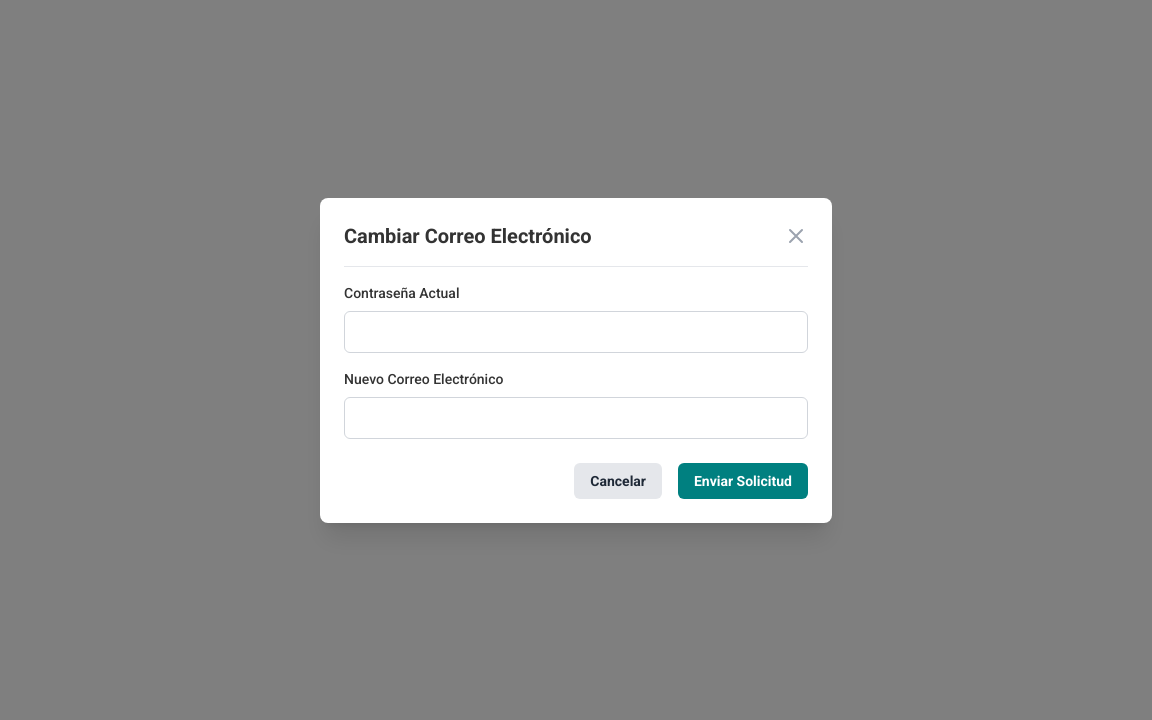
it: ChangeEmailModal › debería mostrar un mensaje de error si la API falla
Note: Simulamos la entrada de datos y el envío
Type "password123" into the password field labelled "Contraseña Actual" at point(576, 332), box [344,310,808,352]
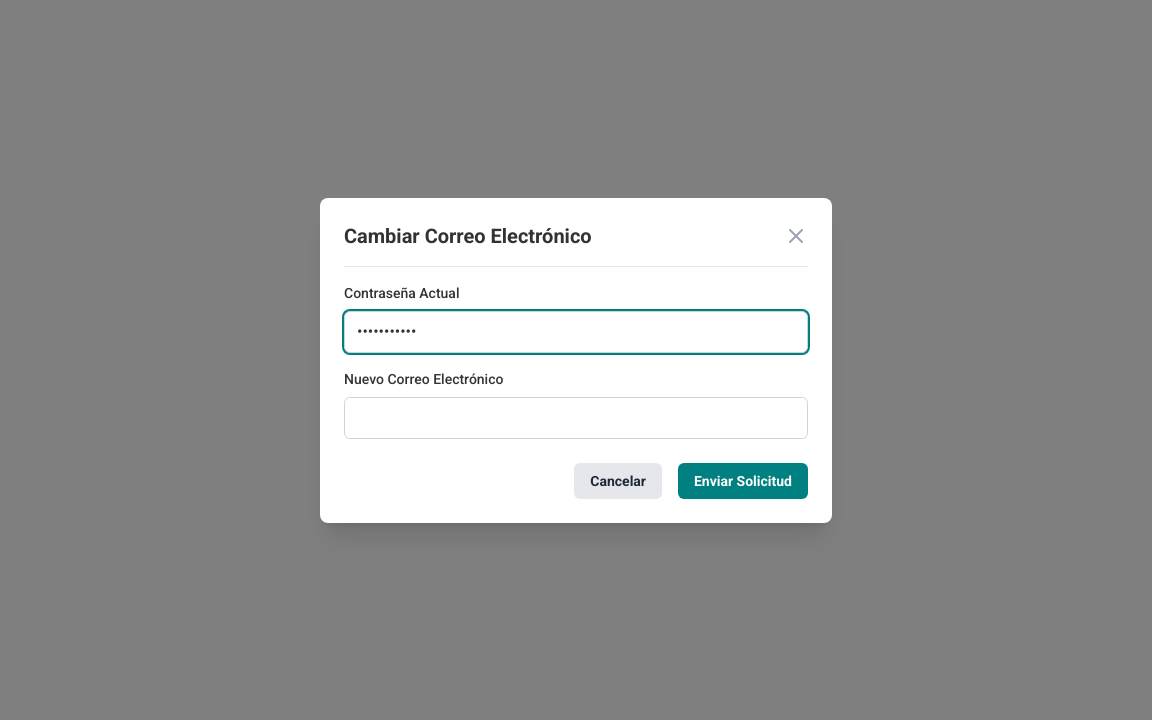
Type "existente@email.com" into the field labelled "Nuevo Correo Electrónico" at point(576, 418), box [344,396,808,438]
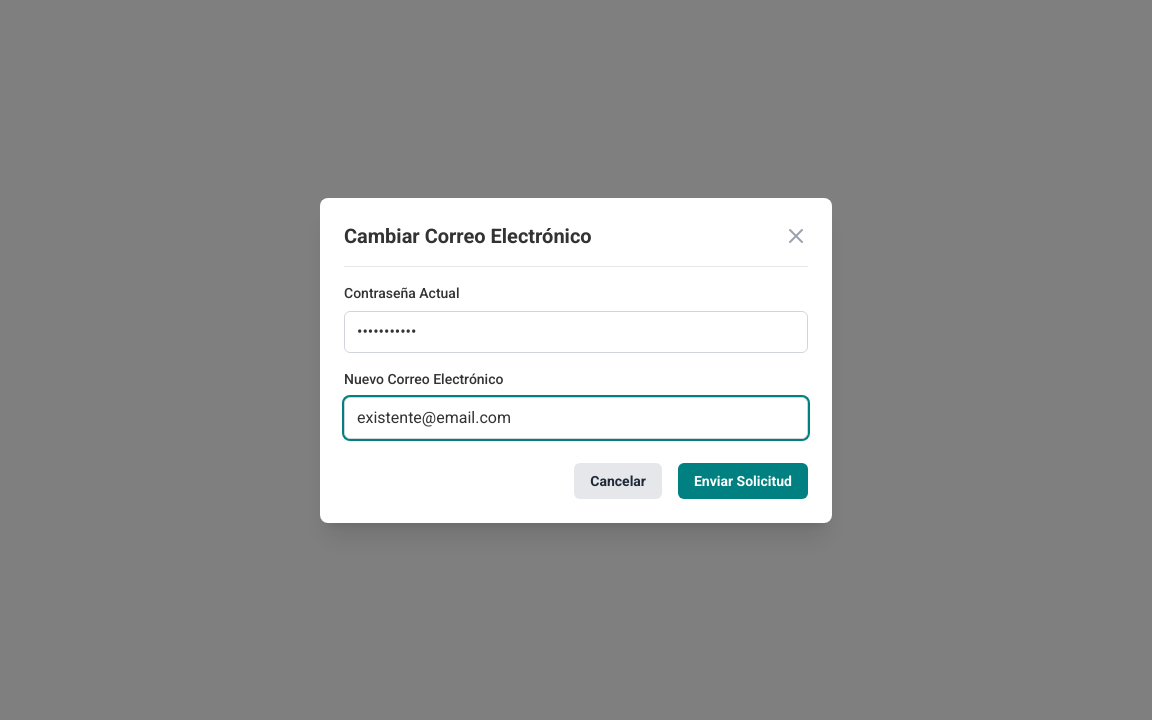
Click the button "Enviar Solicitud" at point(743, 480), box [678,462,808,498]
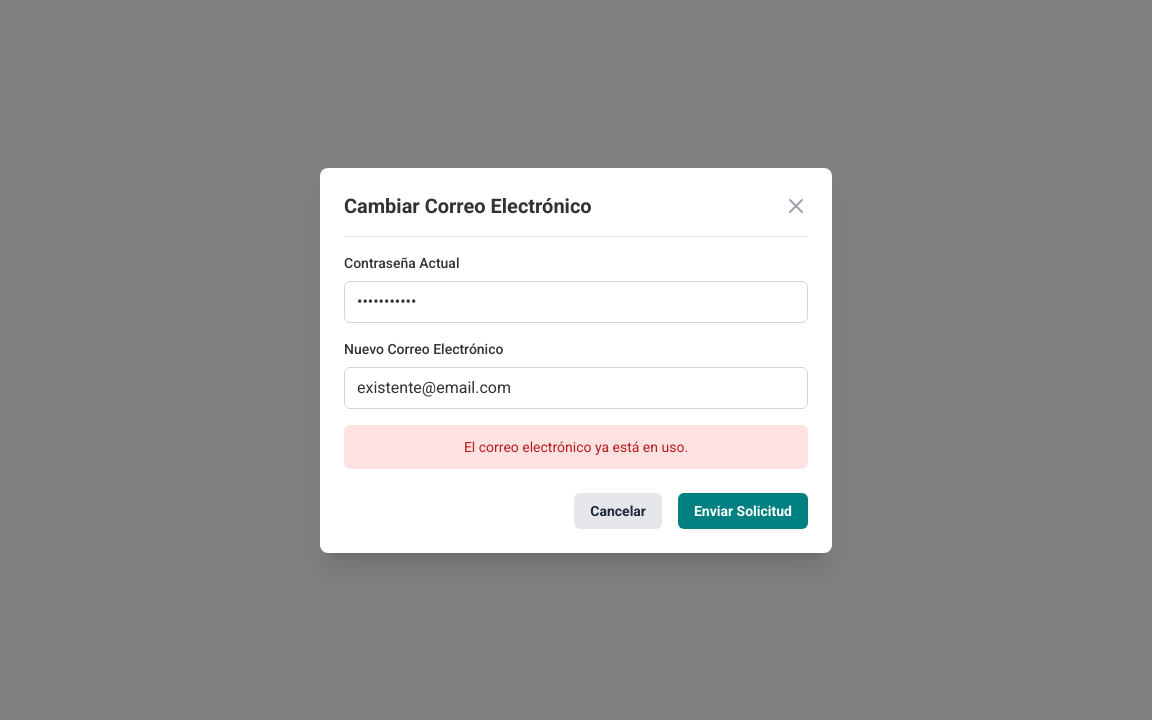
Check: the text "El correo electrónico ya está en uso." is shown, box [344,424,808,468]
